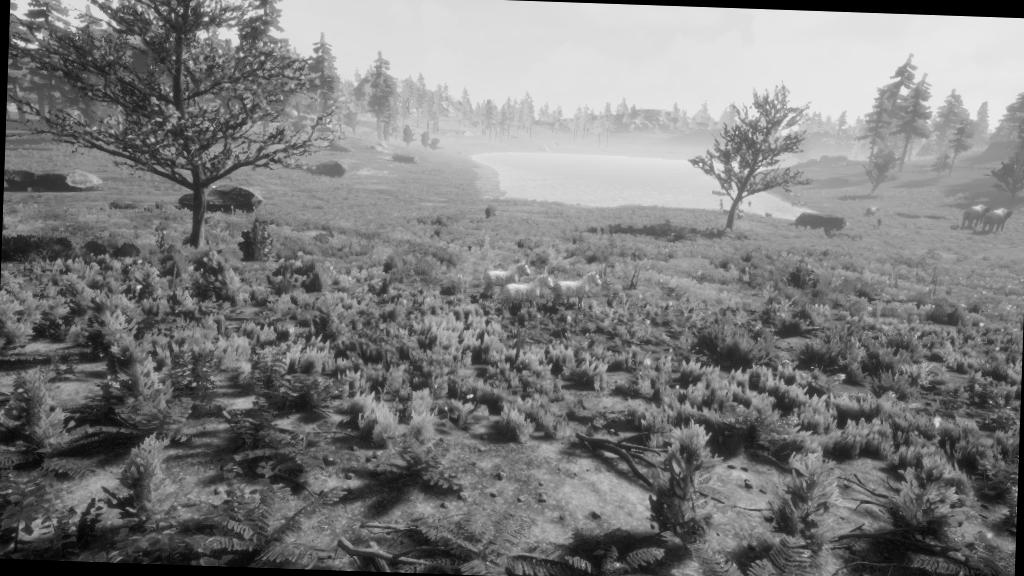zebra: (550, 266, 607, 320), (496, 272, 558, 315)
